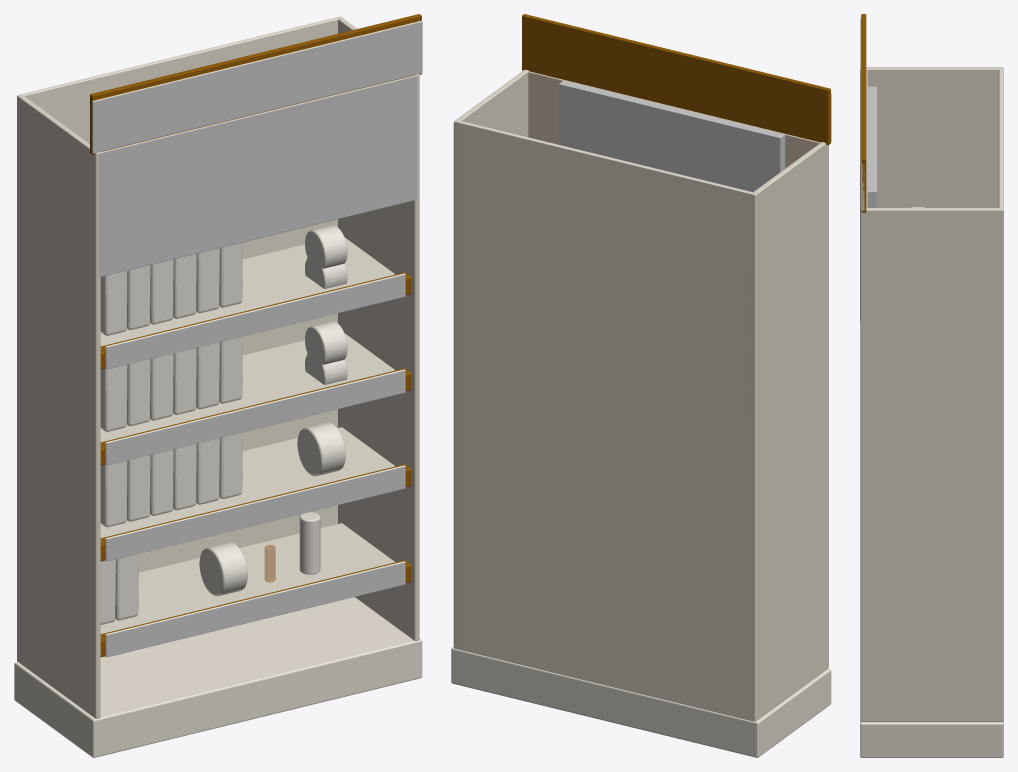
The model's file is display_rack_2.obj.
The picture shows the model from 3 angles, left to right: view 1: azimuth 30°, elevation 25°; view 2: azimuth 150°, elevation 25°; view 3: azimuth 270°, elevation 25°; orthographic projection. The views are drawn at different scales.
Visible parts, largest first — view 1: side.panel_1, header.panel, base.plinth, side.panel_2, crown.panel, back.panel, shelf.deck_1, shelf.talker_1, shelf.talker_4, shelf.talker_3, shelf.talker_2, shelf.deck_2 (+34 smaller); view 2: back.panel, side.panel_1, crown.arch, header.lightbox, base.plinth, side.panel_2, header.panel; view 3: side.panel_2, side.panel_1, base.plinth, header.lightbox, crown.arch, back.panel, header.panel, crown.panel.
Part boxes in pixels (x1,y1,x2,y2): side.panel_1: (17,94,100,718); header.panel: (99,75,416,276); base.plinth: (14,597,422,757); side.panel_2: (338,16,419,640); crown.panel: (90,20,422,153); back.panel: (20,17,338,572); shelf.deck_1: (100,523,394,633); shelf.talker_1: (105,561,405,657); shelf.talker_4: (105,273,405,369); shelf.talker_3: (105,369,405,465); shelf.talker_2: (105,465,405,561); shelf.deck_2: (100,427,394,537); back.panel: (456,120,753,721); side.panel_1: (751,142,828,721); crown.arch: (522,14,830,145); header.lightbox: (559,80,785,191); base.plinth: (451,647,831,757); side.panel_2: (453,69,528,648); header.panel: (528,71,820,168); side.panel_2: (860,208,1003,721); side.panel_1: (866,67,1003,207); base.plinth: (860,721,1003,757); header.lightbox: (867,86,876,207); crown.arch: (861,14,866,212); back.panel: (999,68,1003,208); header.panel: (860,69,867,320); crown.panel: (860,18,864,210).
Size of the model in its own units: 0.914 by 1.75 by 0.3811.
